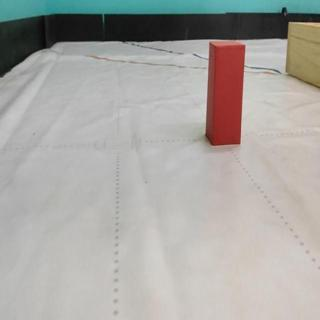redbox: (206, 41, 246, 145)
